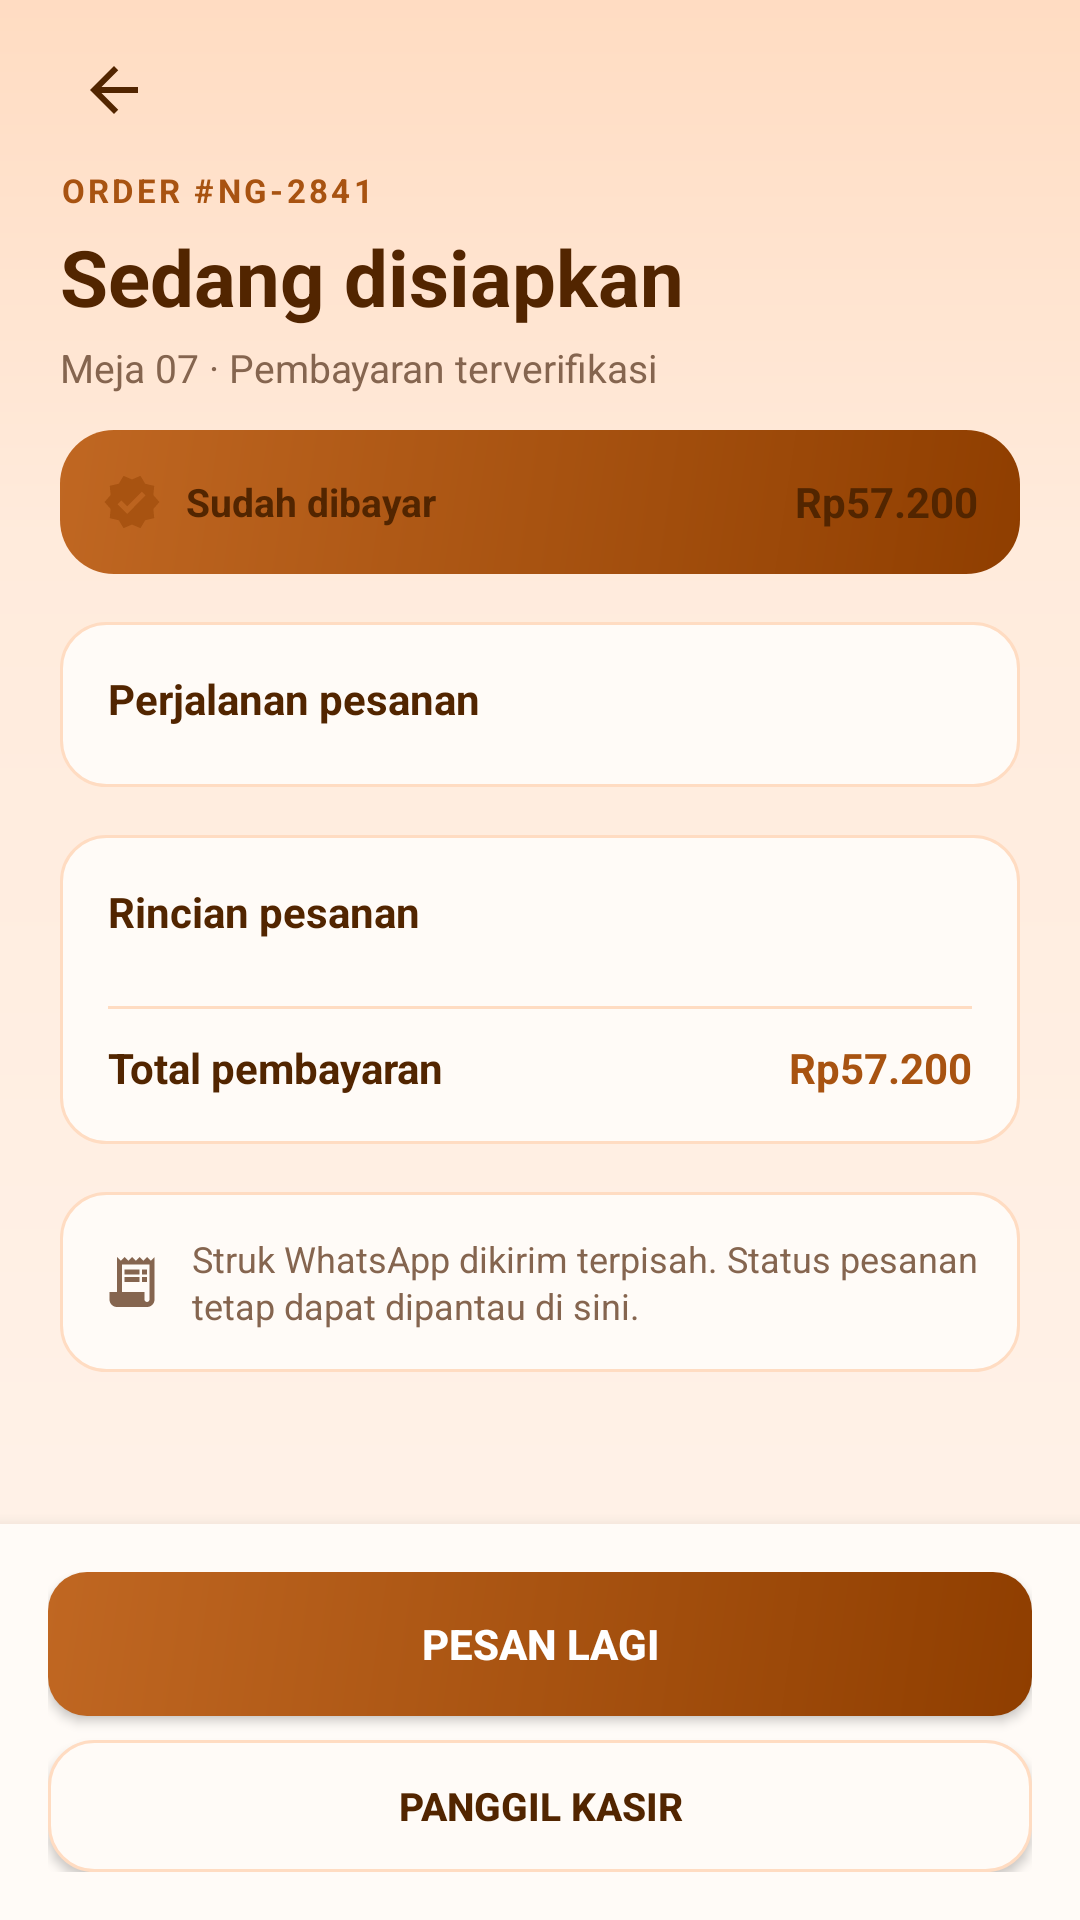

Icons on this 1080px x 1920px Android screen, each with the point to tap as (x=x, y=y):
Kembali: (x=114, y=90)
receipt: (x=132, y=1282)
